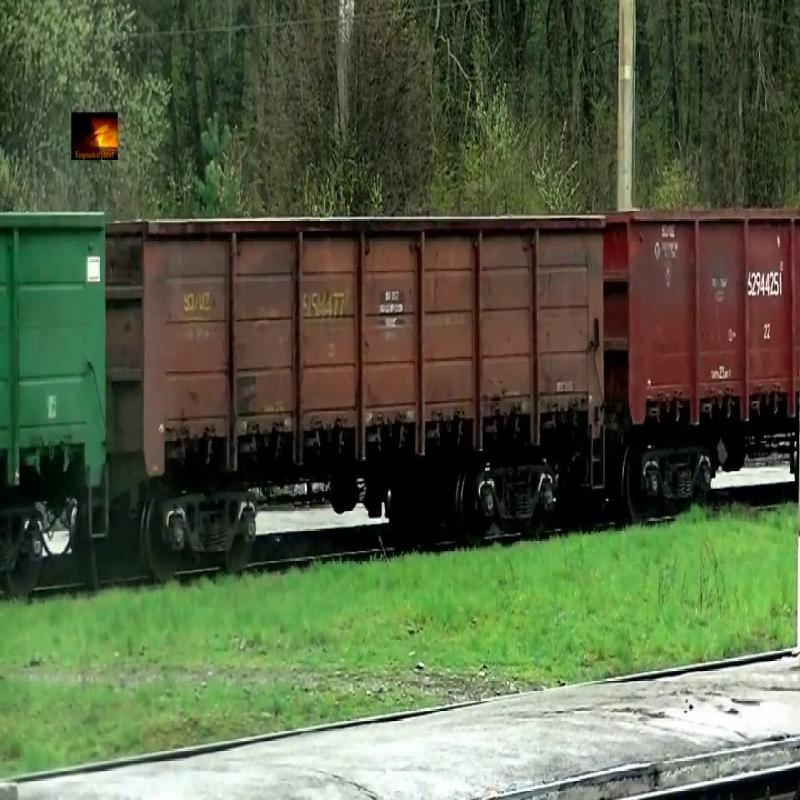train: (108, 213, 608, 482), (605, 210, 800, 430), (1, 211, 108, 495)
